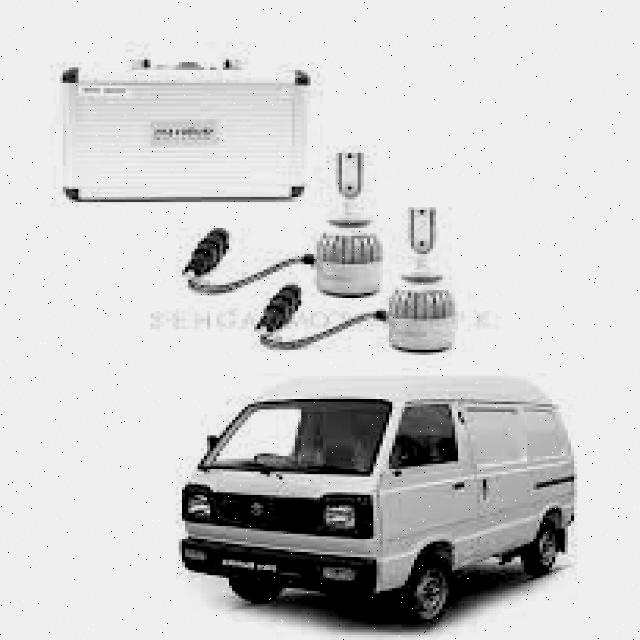Van: (179, 381, 577, 624)
